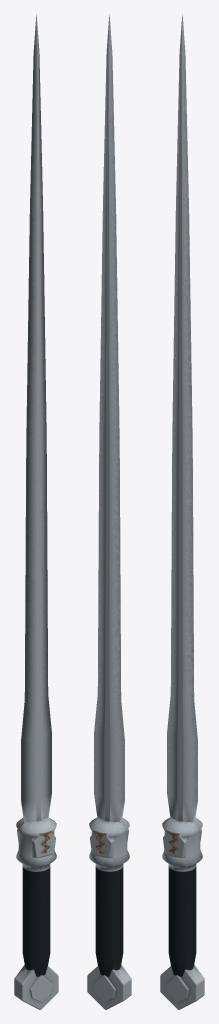
File: estoc-cane-crafted.glb
3 renders of one model, left to right at view 1: azimuth 30°, elevation 25°; view 2: azimuth 150°, elevation 25°; view 3: azimuth 330°, elevation 25°, orthographic.
Visible parts, largest first — view 1: estoc-cane-crafted; view 2: estoc-cane-crafted; view 3: estoc-cane-crafted.
Boxes of the visible parts, left/top/right/bottom form: estoc-cane-crafted: left=14, top=14, right=58, bottom=1009; estoc-cane-crafted: left=87, top=14, right=131, bottom=1009; estoc-cane-crafted: left=160, top=14, right=204, bottom=1009.
Bounding box in the file's own units: 0.05 × 1.28 × 0.048.
Materials: 1 (1 with a texture image).
